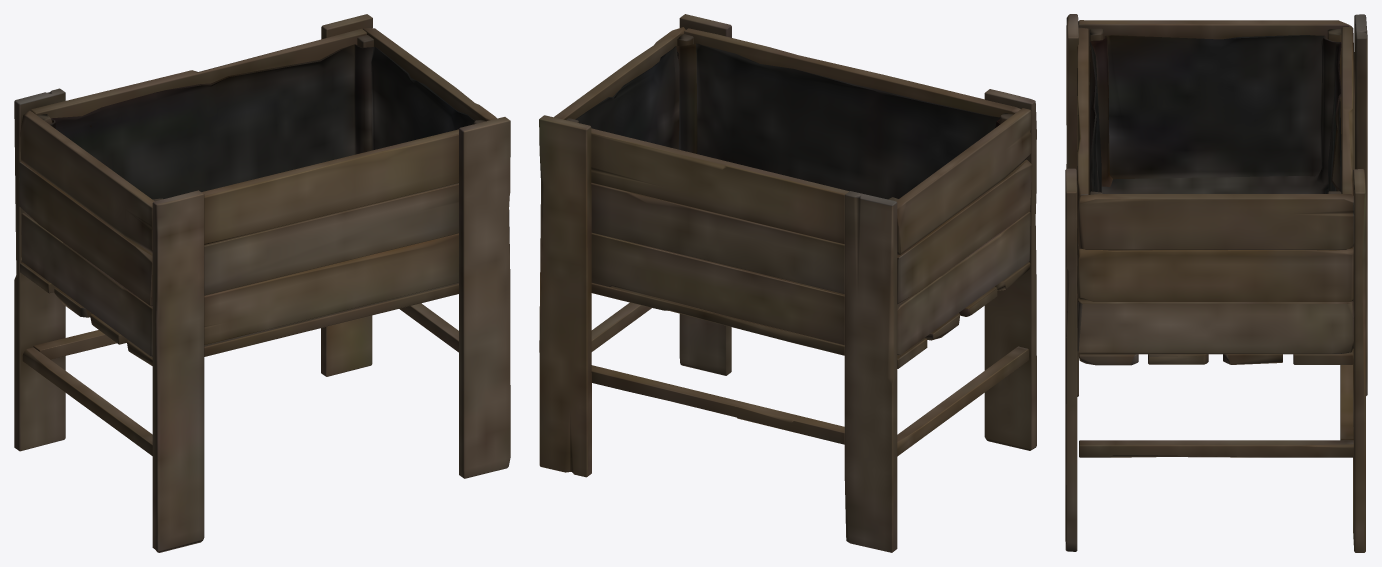
The model's file is ph_planter_3.glb.
3 views of the same model, side by side, from view 1: azimuth 30°, elevation 25°; view 2: azimuth 150°, elevation 25°; view 3: azimuth 270°, elevation 25° (orthographic). The views are drawn at different scales.
Parts seen in each view (by area): view 1: ph_planter_3; view 2: ph_planter_3; view 3: ph_planter_3.
Part boxes in pixels (x1,y1,x2,y2): ph_planter_3: (14, 14, 510, 552); ph_planter_3: (539, 14, 1036, 552); ph_planter_3: (1065, 14, 1367, 552).
Bounding box in the file's own units: 0.9113 × 0.8551 × 0.6488.
Materials: 1 (1 with a texture image).
